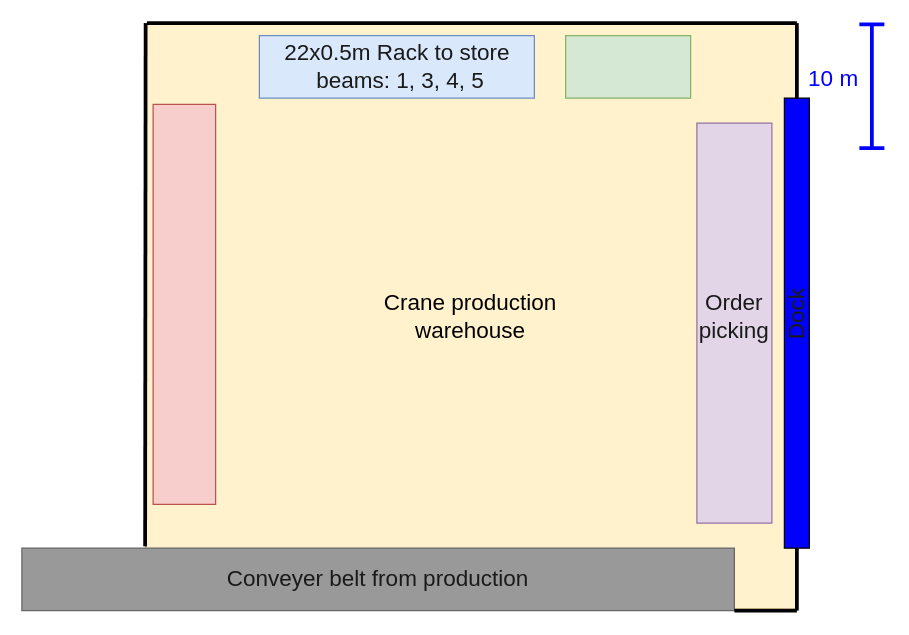
This 909x635 diagram has some shape labels left out. Each missing label, with the centre of its shape:
"32x0.5m Rack for storage of beams: 2, 7, 9" goes at (184,303).
"Beams 6,8,10,11" goes at (627,66).
